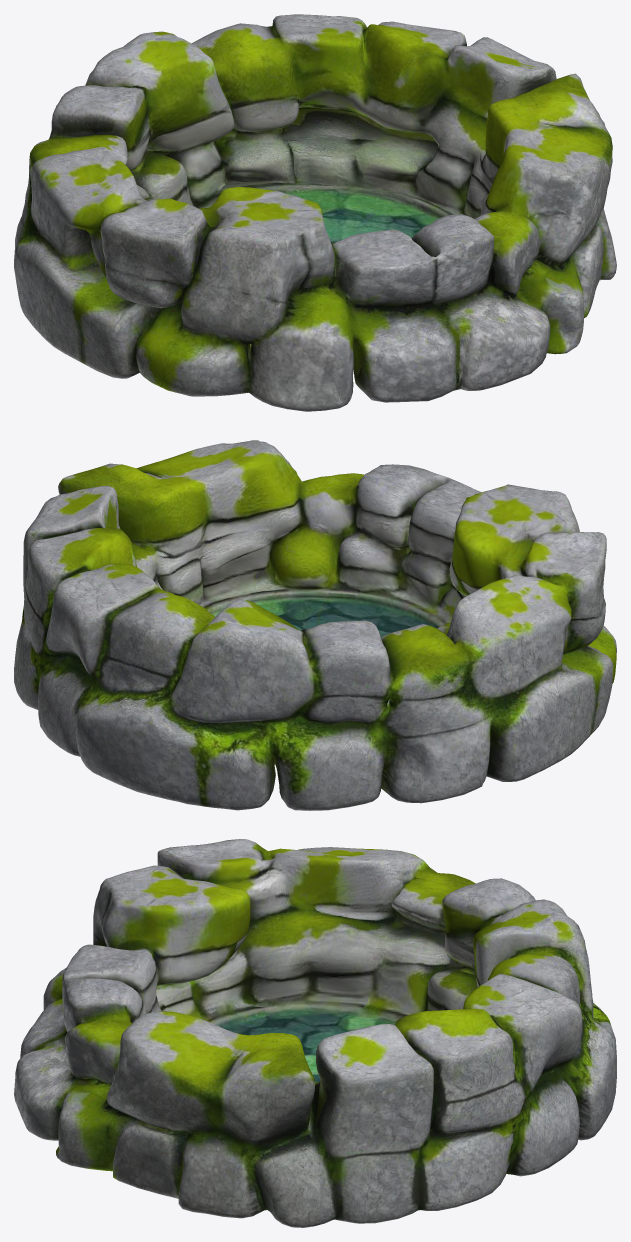
Rendered from wellv02.glb.
The picture shows the model from 3 angles, top to bottom: view 1: azimuth 30°, elevation 25°; view 2: azimuth 150°, elevation 25°; view 3: azimuth 270°, elevation 25°; orthographic projection. The views are drawn at different scales.
Parts seen in each view (by area): view 1: Mesh_0.001; view 2: Mesh_0.001; view 3: Mesh_0.001.
Part boxes in pixels (x1,y1,x2,y2): Mesh_0.001: [14, 14, 616, 411]; Mesh_0.001: [14, 440, 616, 810]; Mesh_0.001: [14, 839, 616, 1227].
Bounding box in the file's own units: 9.94 × 3 × 9.94.
1 material, 1 textured.
